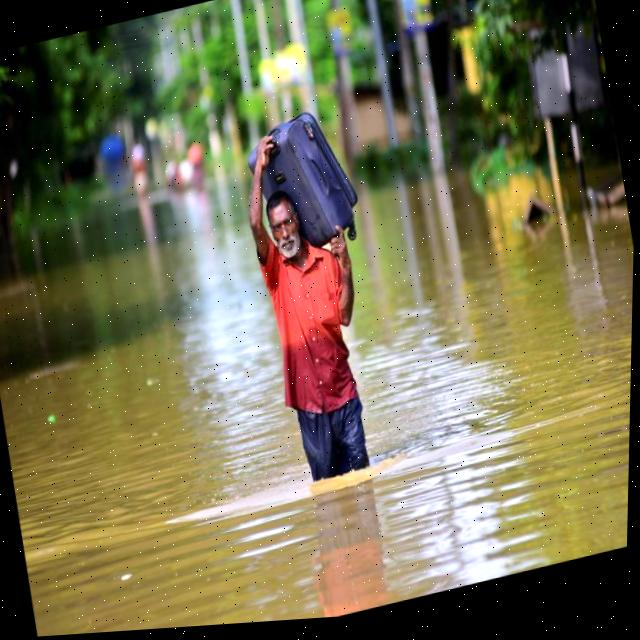civilian: (185, 101, 444, 511)
